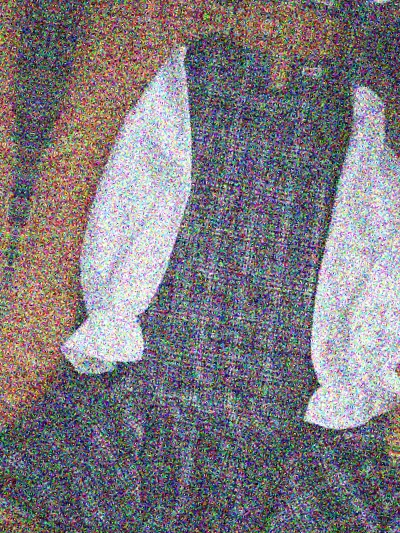Dress: (0, 6, 400, 533), (88, 0, 400, 49), (0, 0, 25, 520), (372, 71, 400, 533)
